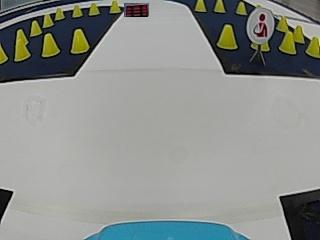cone: (217, 24, 238, 49), (70, 29, 89, 54), (14, 31, 30, 60), (41, 33, 60, 57), (280, 32, 295, 54), (305, 35, 319, 57), (276, 15, 289, 31), (30, 20, 42, 35), (108, 1, 121, 14), (42, 13, 54, 27), (0, 42, 8, 63), (235, 1, 247, 14), (194, 0, 206, 12), (88, 3, 100, 15), (71, 4, 82, 17), (54, 7, 65, 20), (214, 1, 225, 12)
patient: (246, 6, 274, 42)
